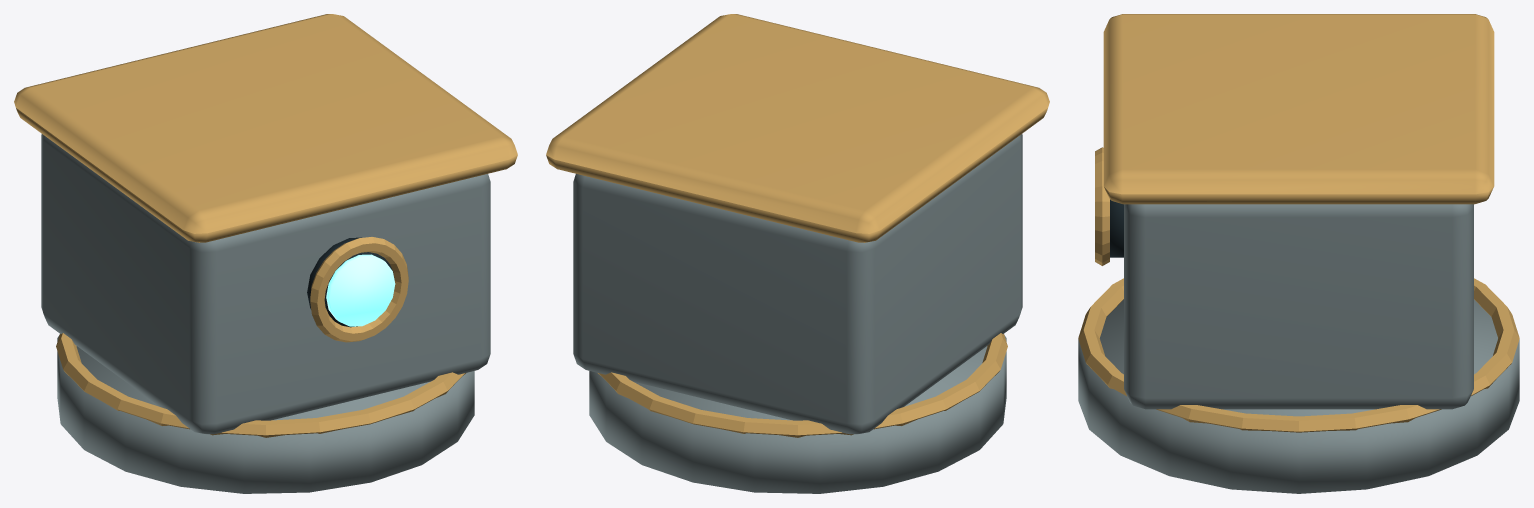
File: module-armor.glb
The picture shows the model from 3 angles, left to right: view 1: azimuth 30°, elevation 25°; view 2: azimuth 150°, elevation 25°; view 3: azimuth 270°, elevation 25°; orthographic projection. The views are drawn at different scales.
Parts seen in each view (by area): view 1: module-armor / Iron | weathered steel, module-armor / Brass | machined champagne, module-armor / Glass | luminous mint, module-armor / Rubber | dark insets; view 2: module-armor / Iron | weathered steel, module-armor / Brass | machined champagne; view 3: module-armor / Iron | weathered steel, module-armor / Brass | machined champagne, module-armor / Rubber | dark insets.
Part boxes in pixels (x1,y1,x2,y2): module-armor / Iron | weathered steel: [41, 134, 490, 493]; module-armor / Brass | machined champagne: [14, 14, 517, 437]; module-armor / Glass | luminous mint: [326, 254, 395, 326]; module-armor / Rubber | dark insets: [307, 237, 393, 327]; module-armor / Iron | weathered steel: [573, 134, 1022, 493]; module-armor / Brass | machined champagne: [546, 14, 1049, 437]; module-armor / Iron | weathered steel: [1078, 204, 1519, 493]; module-armor / Brass | machined champagne: [1078, 14, 1519, 432]; module-armor / Rubber | dark insets: [1110, 199, 1123, 257].
Bounding box in the file's own units: 1.64 × 1.27 × 1.64.
